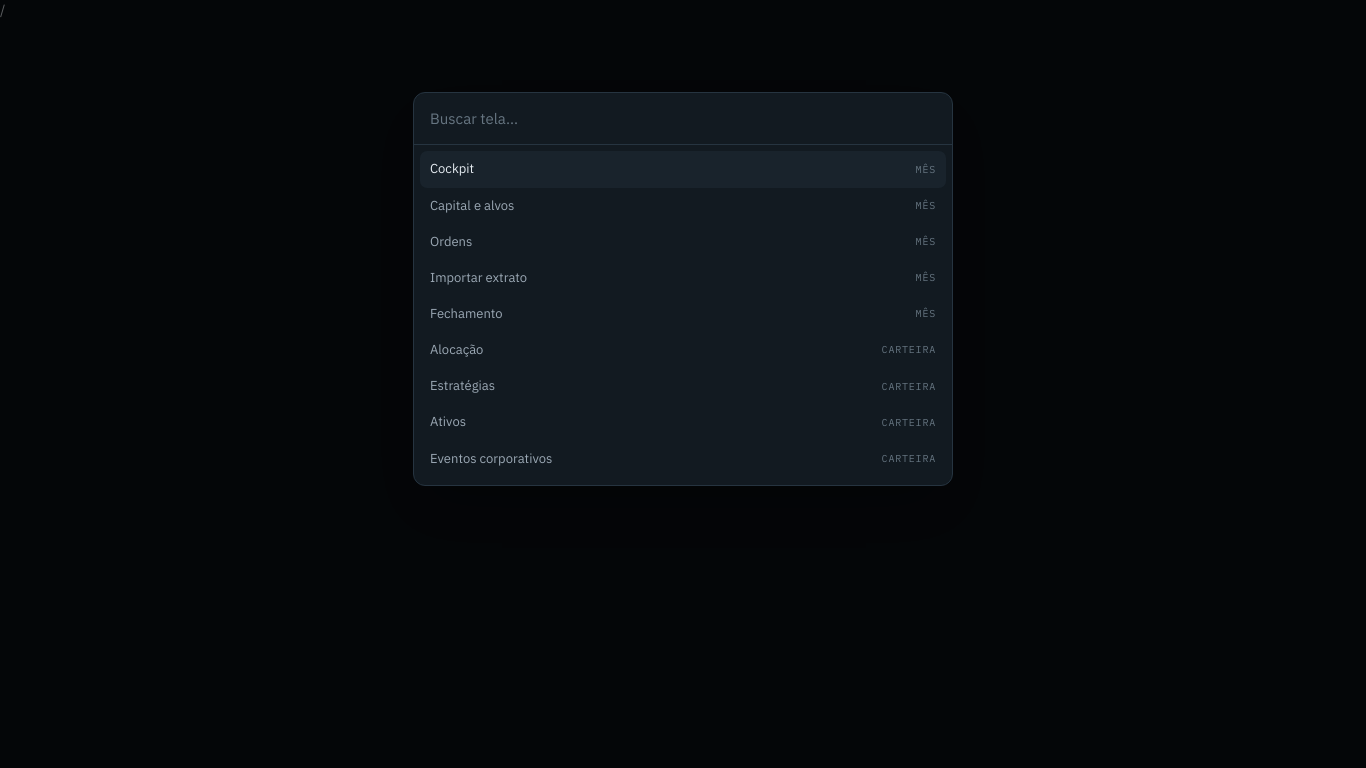
Test case: CommandPalette › navigates to the highlighted command on Enter and closes
Type "impost" into the field labelled "Buscar tela" at {"x": 683, "y": 119}, box [414,93,952,146]
Then press Enter
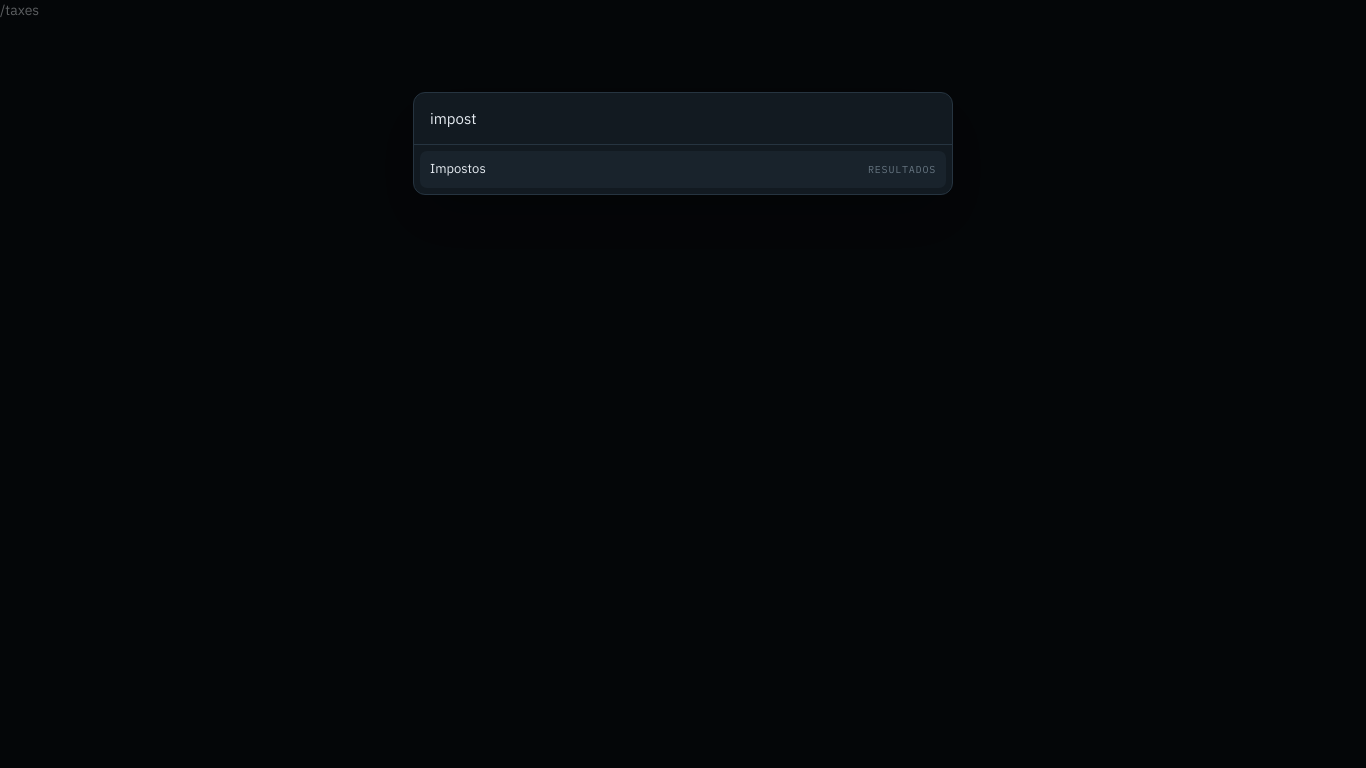
Result: the text with test id "location" reads "/taxes" at [0,1,39,19]
